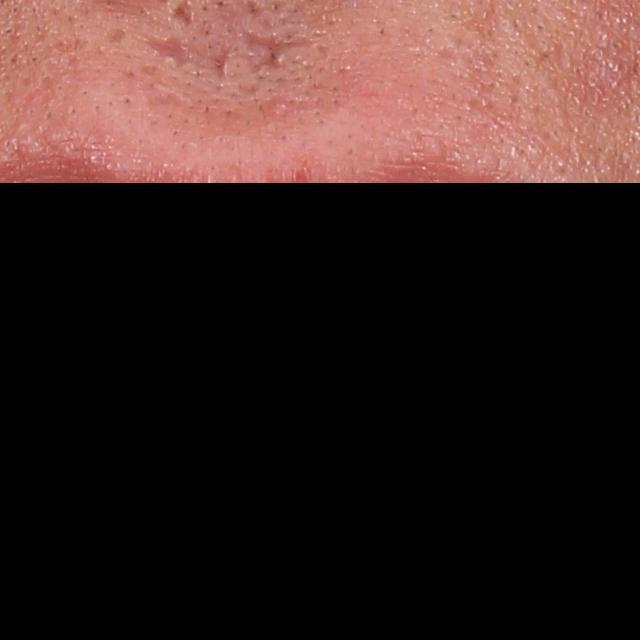atrophic_scar: (241, 29, 320, 69), (143, 34, 192, 70), (213, 40, 233, 77), (106, 26, 127, 46)
